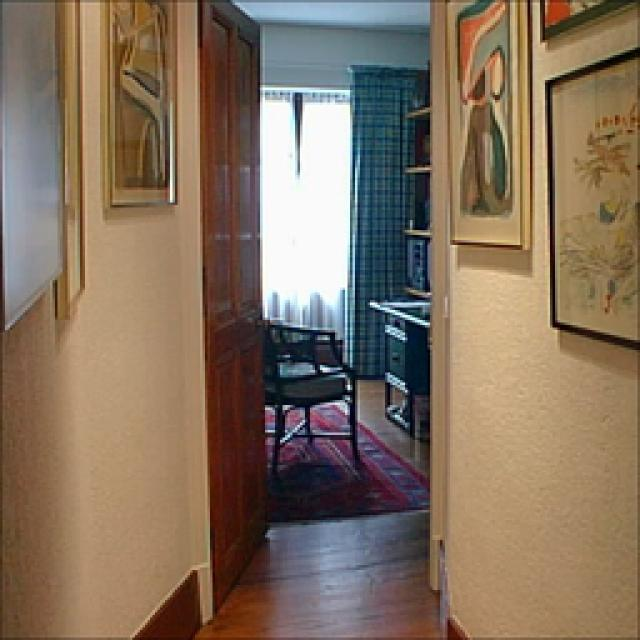painting crop: (542, 45, 638, 350), (443, 0, 528, 248), (100, 0, 175, 205), (52, 0, 80, 318)
